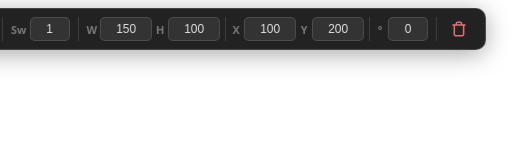
Test case: StyleBar › cancels delete on No click
The image size is (515, 160).
Step 1. Click the button with test id "style-bar-delete" → (459, 29), box [445, 15, 473, 43]
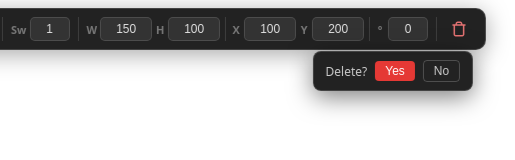
Step 2. Click the button "No" → (441, 71), box [423, 60, 460, 82]
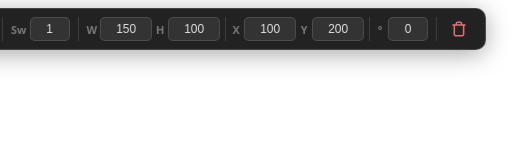
expect the element with test id "delete-confirm" is gone: met
